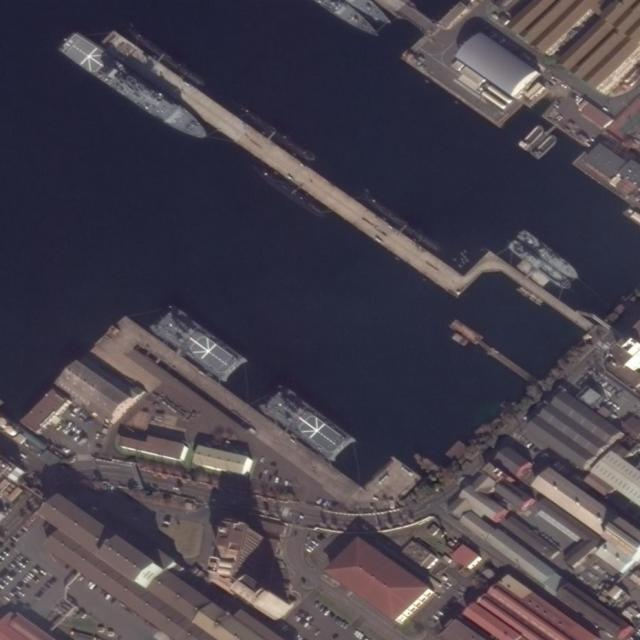Auxiliary Ships: (147, 298, 250, 389), (258, 378, 361, 469)
Dock: (98, 25, 472, 302)
Other Warship: (58, 28, 213, 151), (507, 237, 573, 295), (516, 226, 582, 284)
Submarine: (357, 191, 445, 255), (127, 27, 208, 92), (244, 158, 326, 221), (235, 103, 318, 163)
